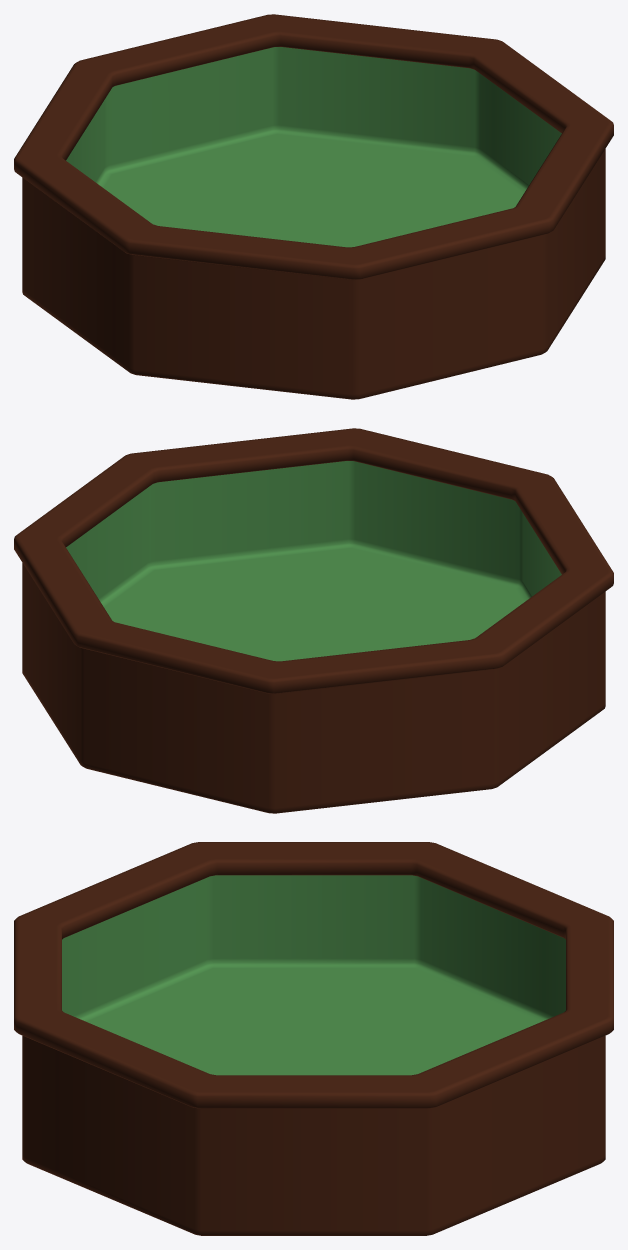
Rendered from dice-throw-basket.fbx.
3 views of the same model, one above another, from view 1: azimuth 30°, elevation 25°; view 2: azimuth 150°, elevation 25°; view 3: azimuth 270°, elevation 25° (orthographic). The views are drawn at different scales.
Parts seen in each view (by area): view 1: DiceThrowBasket; view 2: DiceThrowBasket; view 3: DiceThrowBasket.
Part boxes in pixels (left/top/right/bottom): DiceThrowBasket: left=14, top=14, right=613, bottom=399; DiceThrowBasket: left=14, top=428, right=613, bottom=813; DiceThrowBasket: left=14, top=842, right=613, bottom=1235.
Bounding box in the file's own units: 41.53 × 11.13 × 41.53.
